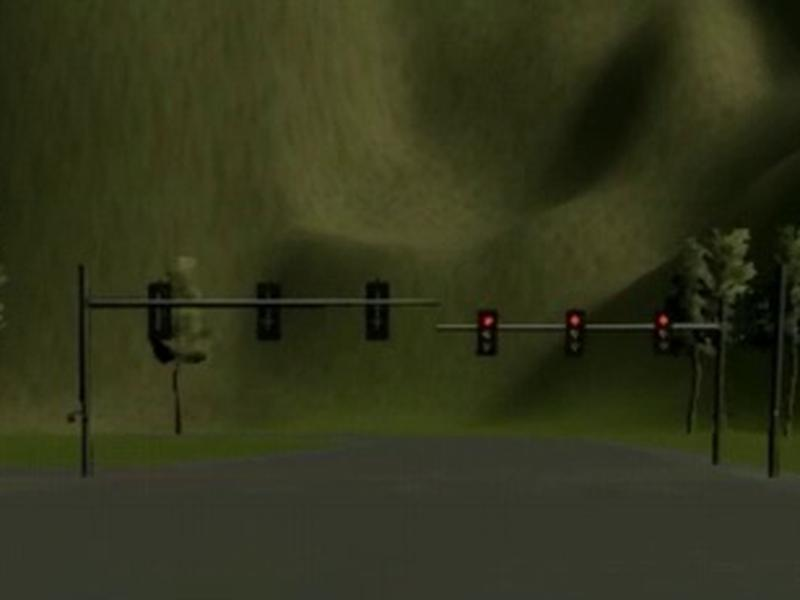Red: (475, 307, 498, 357), (564, 309, 585, 357), (654, 311, 673, 356)
